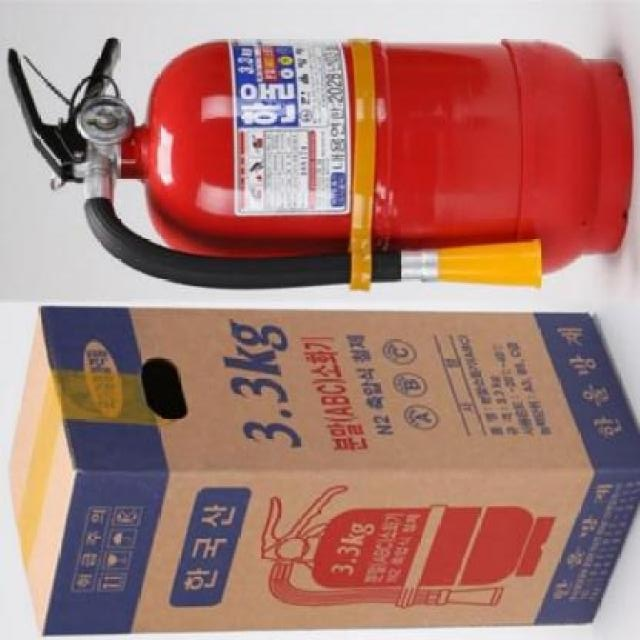fire extinguisher: (6, 37, 632, 292)
